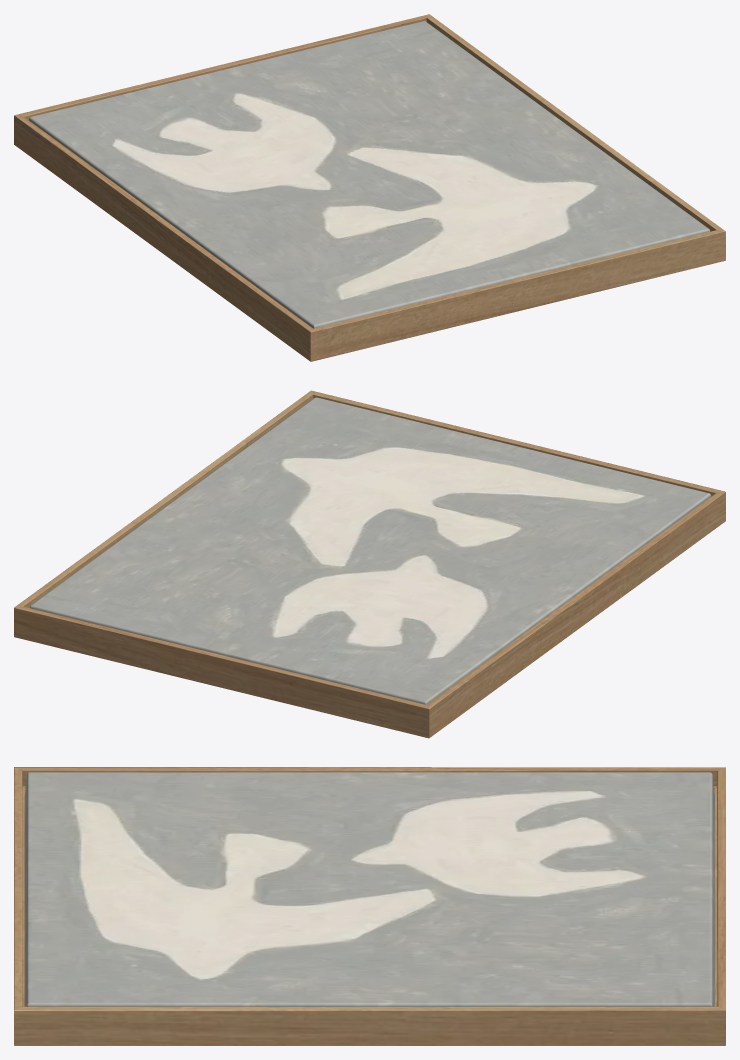
Rendered from BR-ART-A.glb.
The picture shows the model from 3 angles, top to bottom: view 1: azimuth 30°, elevation 25°; view 2: azimuth 150°, elevation 25°; view 3: azimuth 270°, elevation 25°; orthographic projection. The views are drawn at different scales.
Parts seen in each view (by area): view 1: ASY_ART_00601921_S01_NV01; view 2: ASY_ART_00601921_S01_NV01; view 3: ASY_ART_00601921_S01_NV01.
Boxes of the visible parts, box(x1,y1,x2,y2) form: ASY_ART_00601921_S01_NV01: box(14, 14, 725, 361); ASY_ART_00601921_S01_NV01: box(14, 390, 725, 738); ASY_ART_00601921_S01_NV01: box(14, 767, 725, 1045).
Bounding box in the file's own units: 0.4205 × 0.0297 × 0.52.
Materials: 1 (1 with a texture image).
